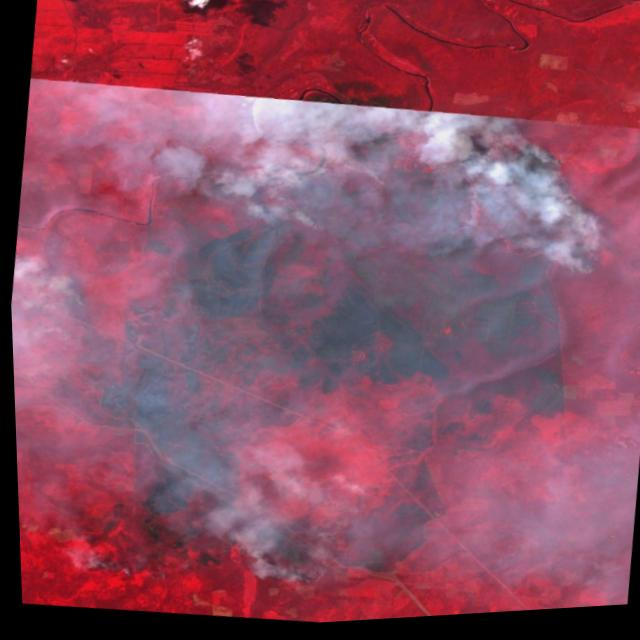fire: (250, 84, 637, 317), (30, 264, 98, 321)
